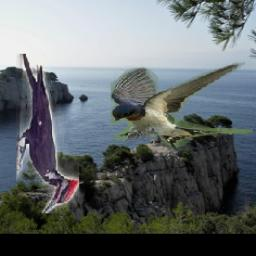Swallow: (112, 62, 254, 148)
Woodpecker: (16, 54, 79, 213)
